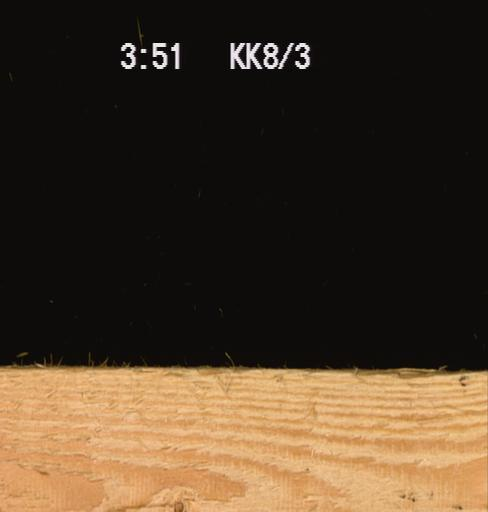edge_knot: (170, 498, 183, 511)
